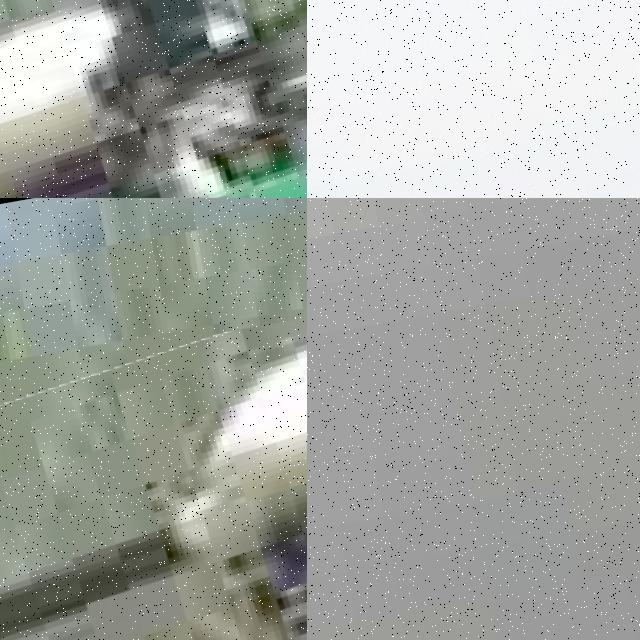drone: (0, 271, 307, 640), (0, 0, 307, 198)
